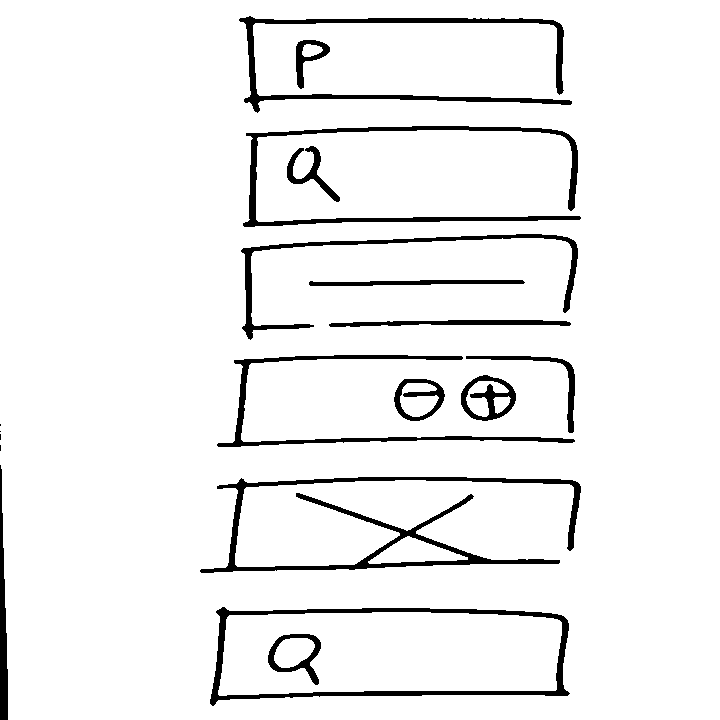button: (236, 230, 583, 335)
inline stepper bar: (219, 350, 583, 451)
paragraph: (230, 8, 577, 115)
picture: (204, 472, 589, 579)
search bar: (203, 602, 579, 707), (237, 122, 591, 229)
